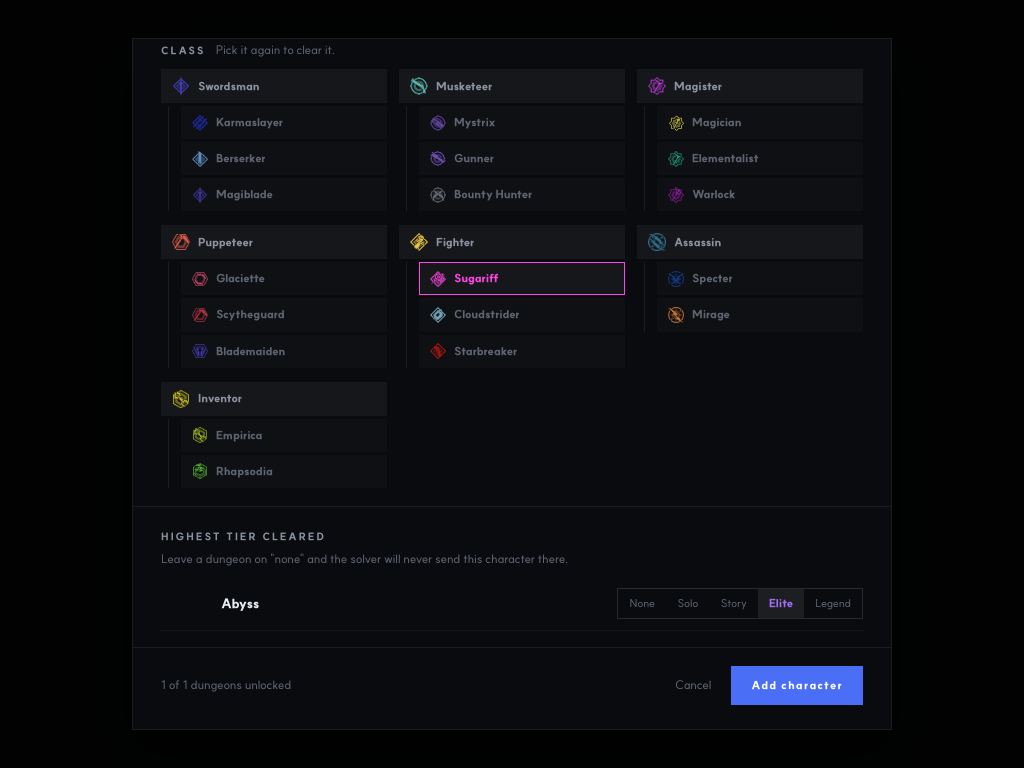
it: AddCharacterModal › names an unnamed character rather than refusing to add it
The width and height of the screenshot is (1024, 768).
(page scrolled)
Step 1. Click the button "Add character" → [797, 685], box x1=731 y1=666 x2=863 y2=705
(page scrolled)
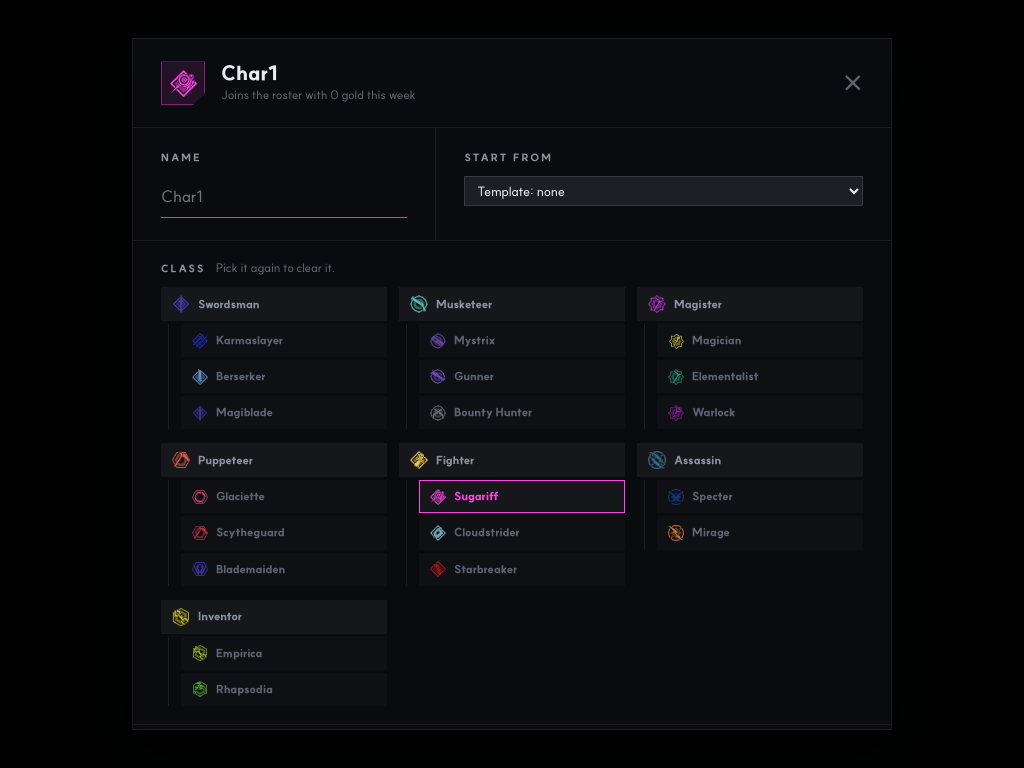
Result: the text "Char1" is shown at x1=221 y1=60 x2=278 y2=85
